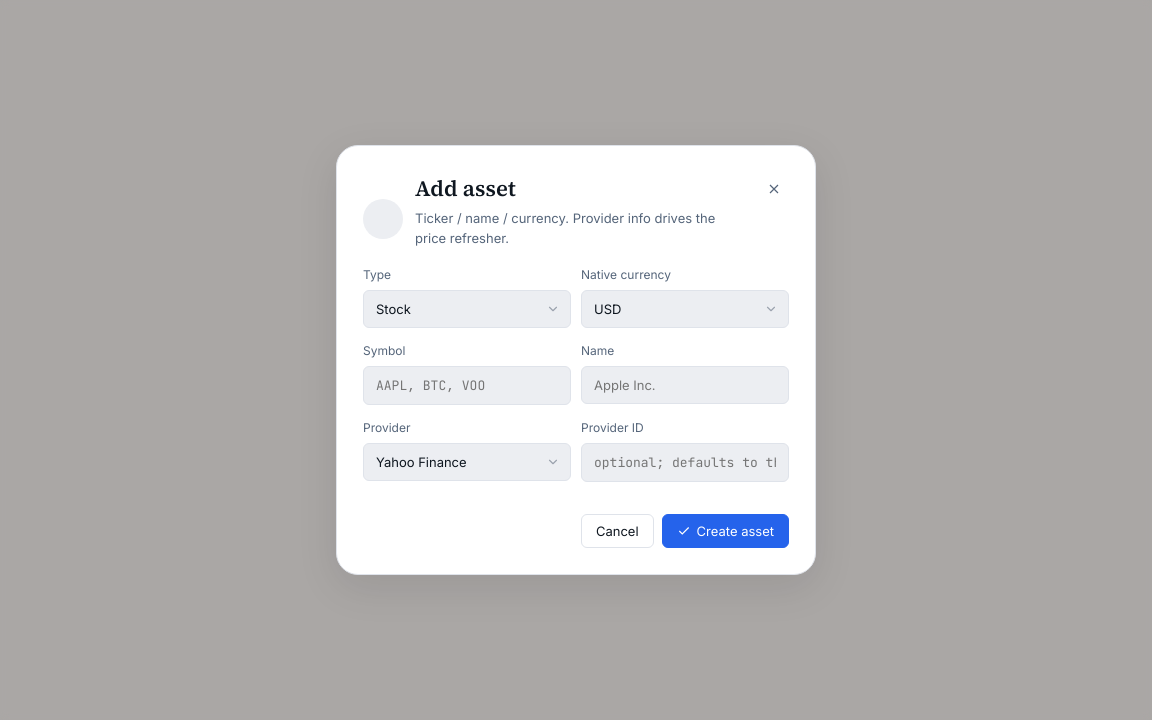
AssetModal — submit › renders the API error and re-enables the submit button on failure
Type "AAPL" into the field with placeholder "AAPL, BTC, VOO" at (467,386), box x1=363 y1=366 x2=571 y2=405
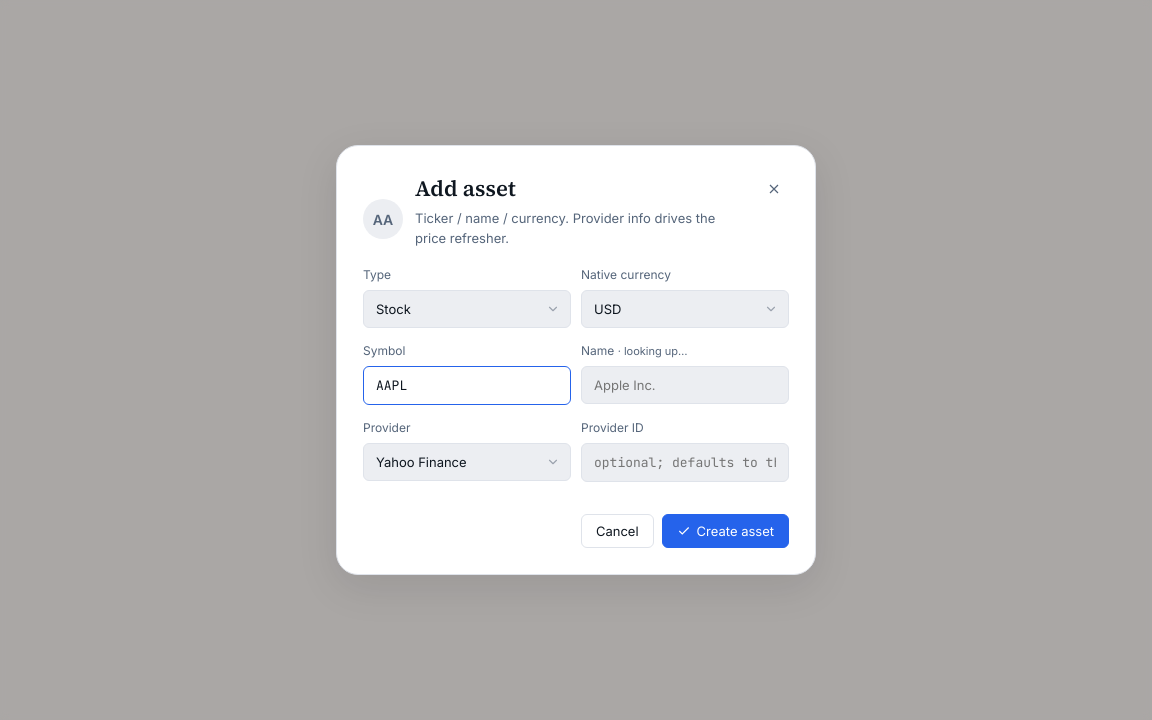
Type "Apple" into the field with placeholder "Apple Inc." at (685,385), box x1=581 y1=366 x2=789 y2=404
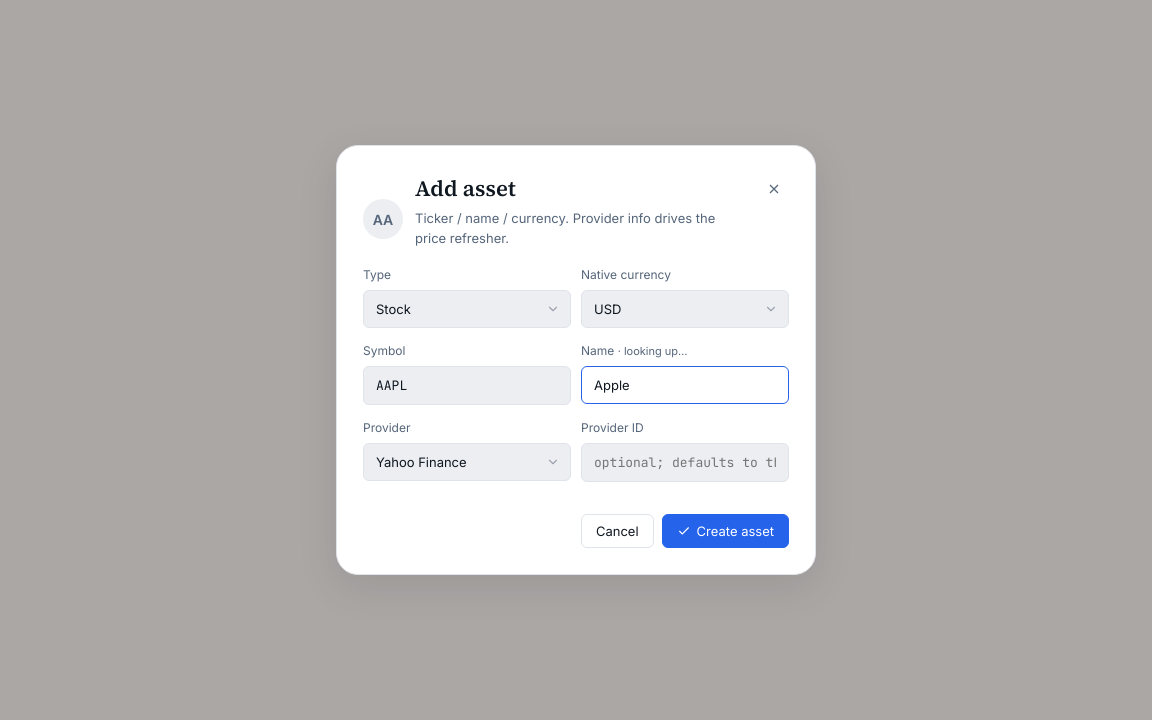
Click the button "Create asset" at (725,531), box x1=662 y1=514 x2=789 y2=548
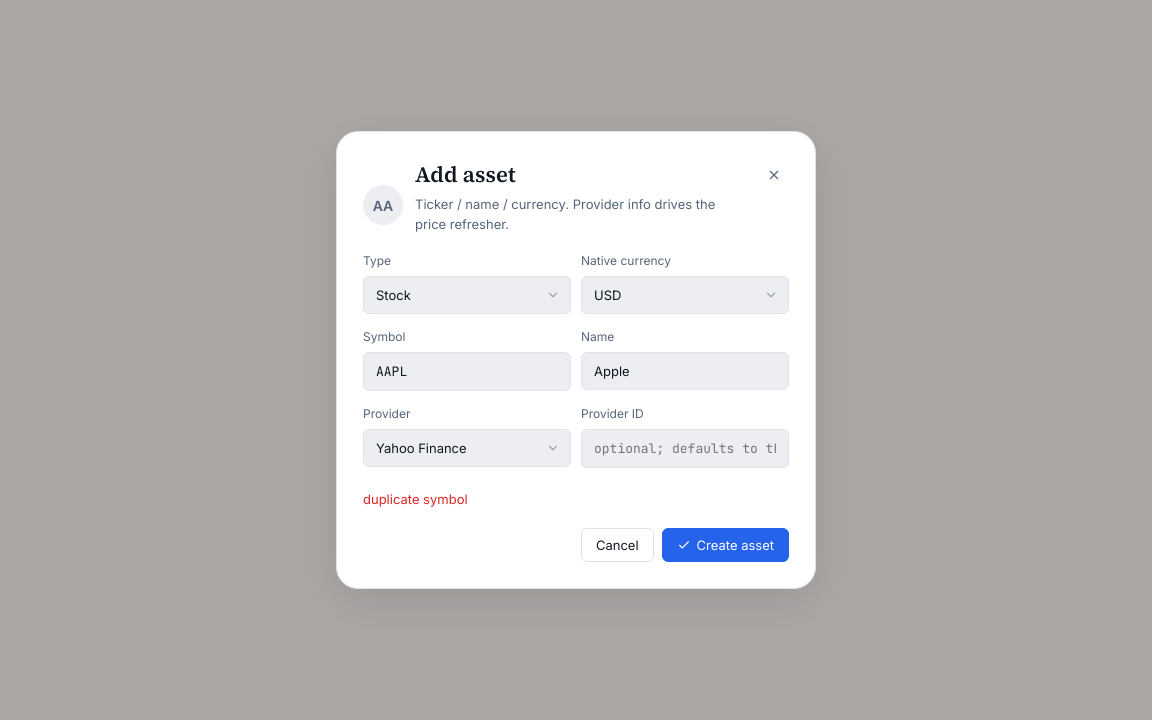
Expected: the button "Create asset" is enabled, x1=662 y1=528 x2=789 y2=562
Expected: the text "duplicate symbol" is shown, x1=363 y1=491 x2=468 y2=507
